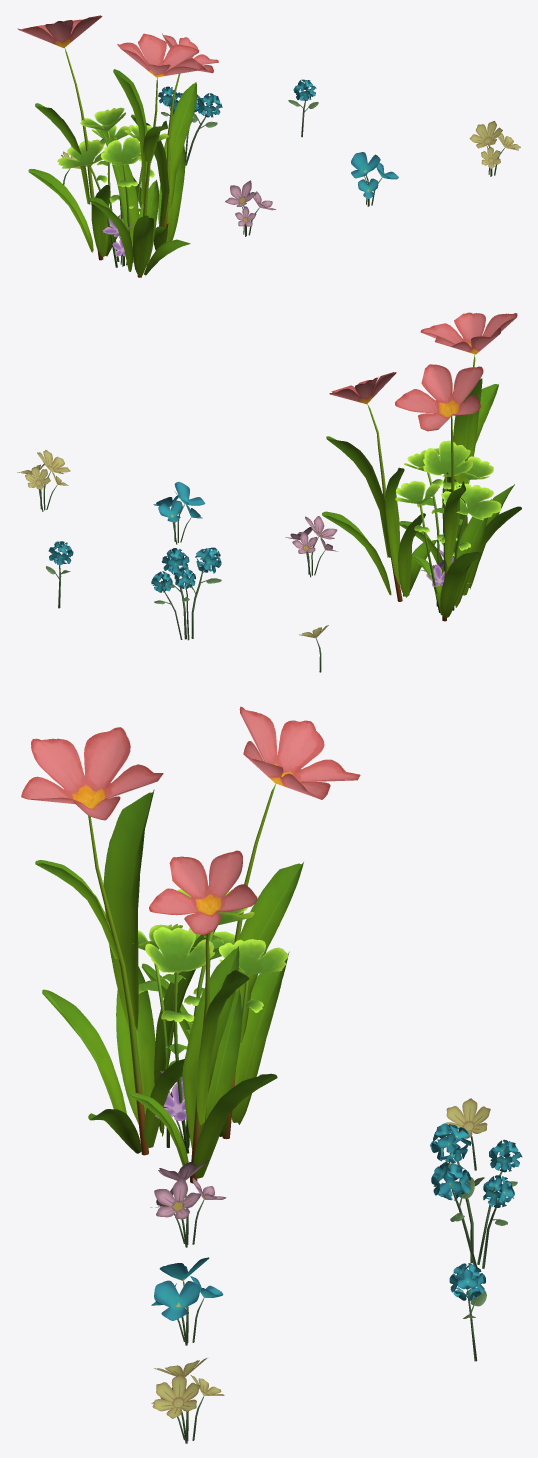
Rendered from flowers.glb.
The picture shows the model from 3 angles, top to bottom: view 1: azimuth 30°, elevation 25°; view 2: azimuth 150°, elevation 25°; view 3: azimuth 270°, elevation 25°; orthographic projection. The views are drawn at different scales.
Visible parts, largest first — view 1: Flower_3_Group, Clover_2, Flower_1_Clump, Flower_2_Clump, Flower_3_Clump, Flower_4_Clump, Flower_1, Flower_5_Clump; view 2: Flower_3_Group, Clover_2, Flower_1_Clump, Flower_3_Clump, Flower_2_Clump, Flower_4_Clump, Flower_1; view 3: Flower_3_Group, Clover_2, Flower_1_Clump, Flower_3_Clump, Flower_2_Clump, Flower_4_Clump, Flower_1, Flower_2.
Boxes of the visible parts, x1,y1,x2,y2 form: Flower_3_Group: (17, 15, 218, 277); Clover_2: (57, 107, 168, 267); Flower_1_Clump: (158, 86, 222, 165); Flower_2_Clump: (469, 121, 520, 176); Flower_3_Clump: (351, 152, 398, 206); Flower_4_Clump: (225, 180, 275, 236); Flower_1: (288, 79, 318, 137); Flower_5_Clump: (102, 215, 132, 266); Flower_3_Group: (322, 312, 521, 621); Clover_2: (395, 440, 501, 612); Flower_1_Clump: (151, 547, 221, 640); Flower_3_Clump: (153, 481, 205, 544); Flower_2_Clump: (17, 450, 70, 511); Flower_4_Clump: (285, 516, 337, 577); Flower_1: (46, 541, 73, 608); Flower_3_Group: (21, 706, 360, 1183); Clover_2: (132, 889, 288, 1153); Flower_1_Clump: (430, 1123, 522, 1268); Flower_3_Clump: (151, 1257, 223, 1345); Flower_2_Clump: (151, 1358, 224, 1443); Flower_4_Clump: (150, 1160, 226, 1247); Flower_1: (449, 1263, 486, 1361); Flower_2: (445, 1098, 490, 1170).
Size of the model in its own units: 4.02 by 2.05 by 2.32.
Materials: 3 (3 with a texture image).
